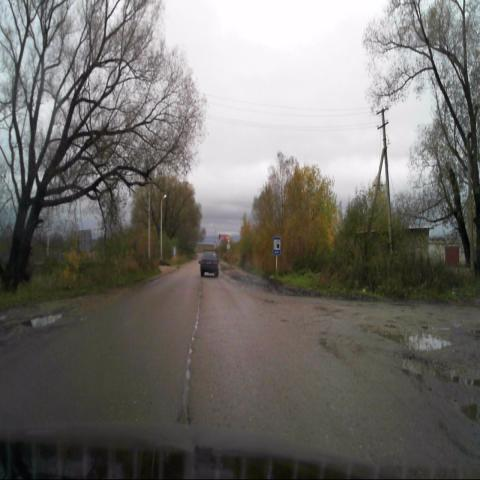7_3: (273, 237, 281, 256)
